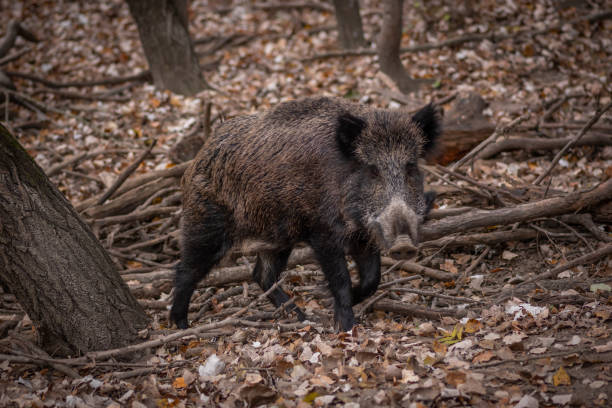pig: (162, 103, 429, 302)
